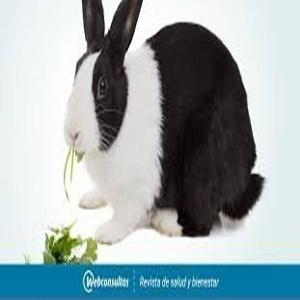rabbit: (67, 0, 264, 244)
